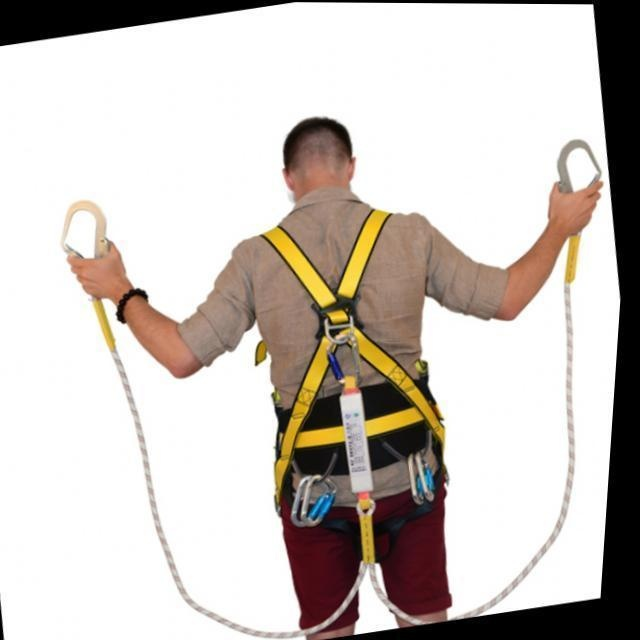Arnes_seguridad: (235, 207, 459, 533)
